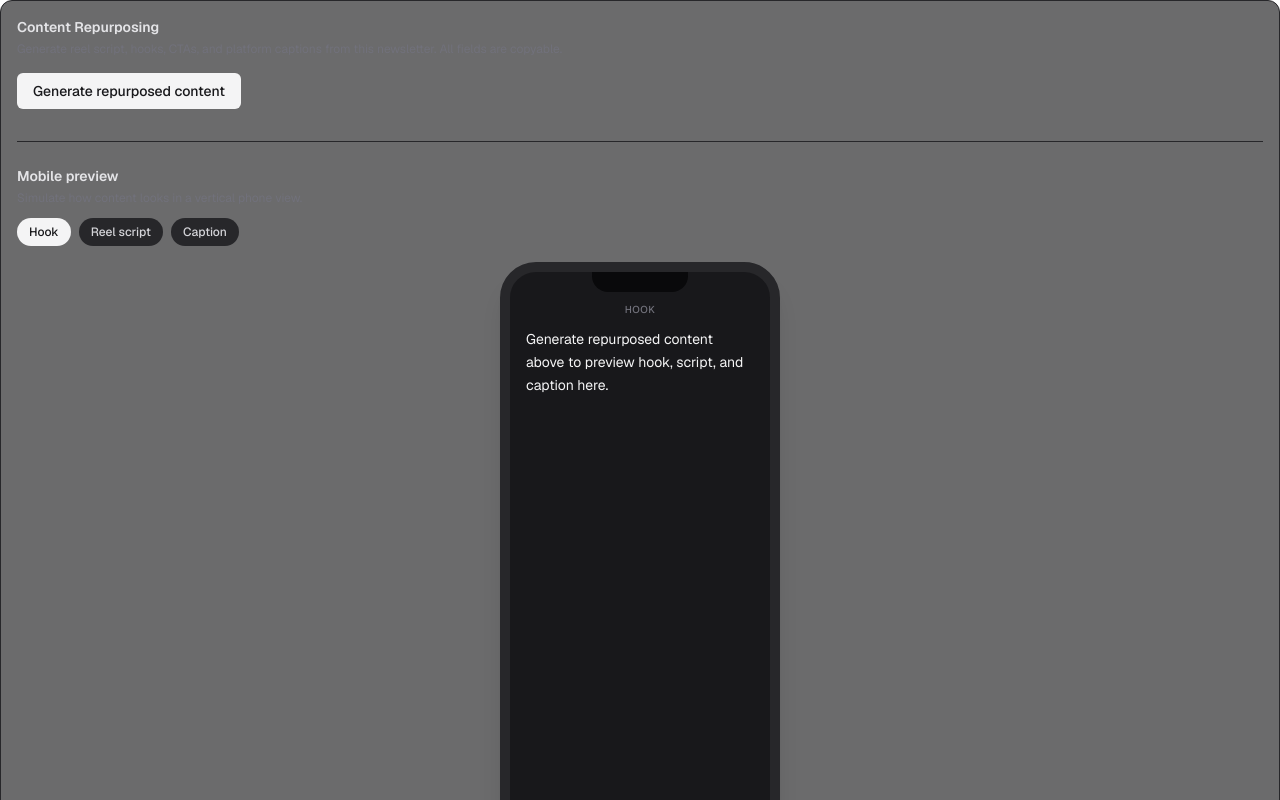
ContentRepurposingPanel › shows error when repurpose API fails
The width and height of the screenshot is (1280, 800).
Click the button "Generate repurposed content". click: (129, 91)
box: [17,73,241,109]
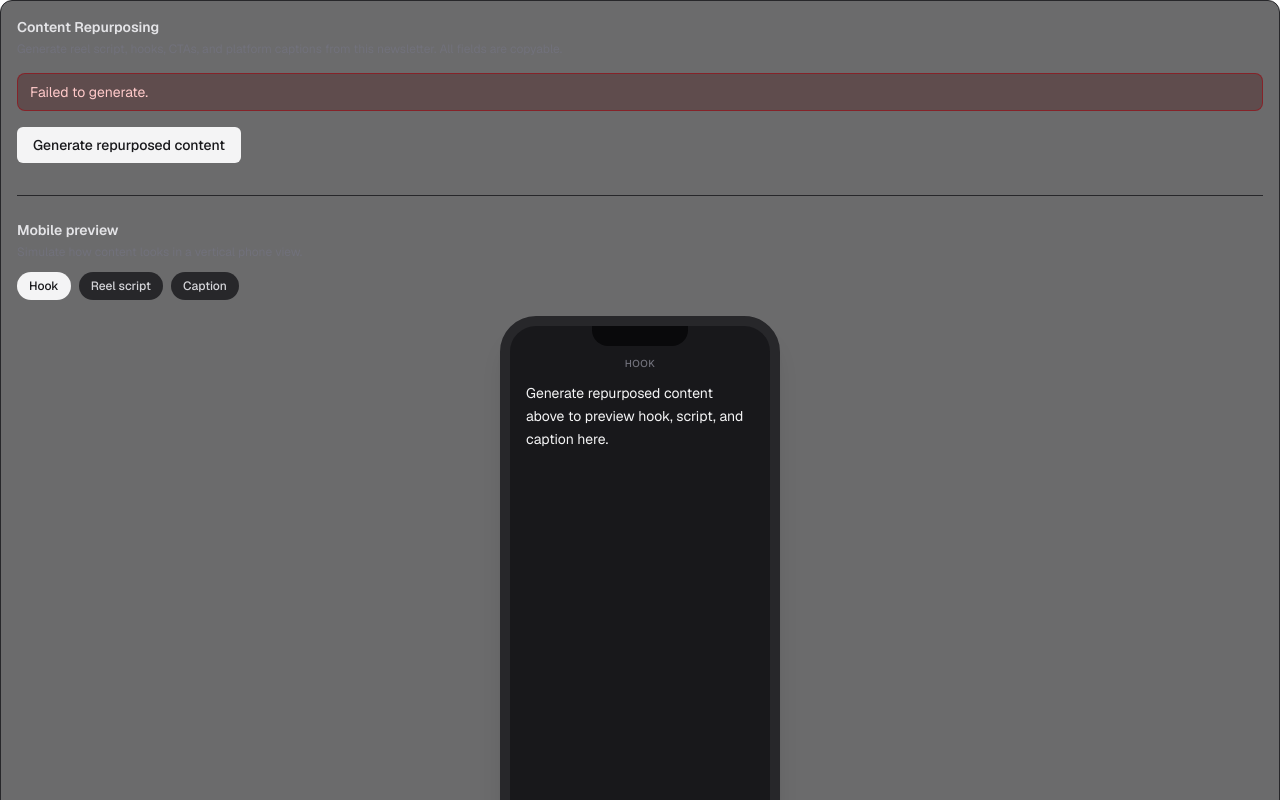
Now the message reads "Failed to generate.", box [30,83,148,101]
